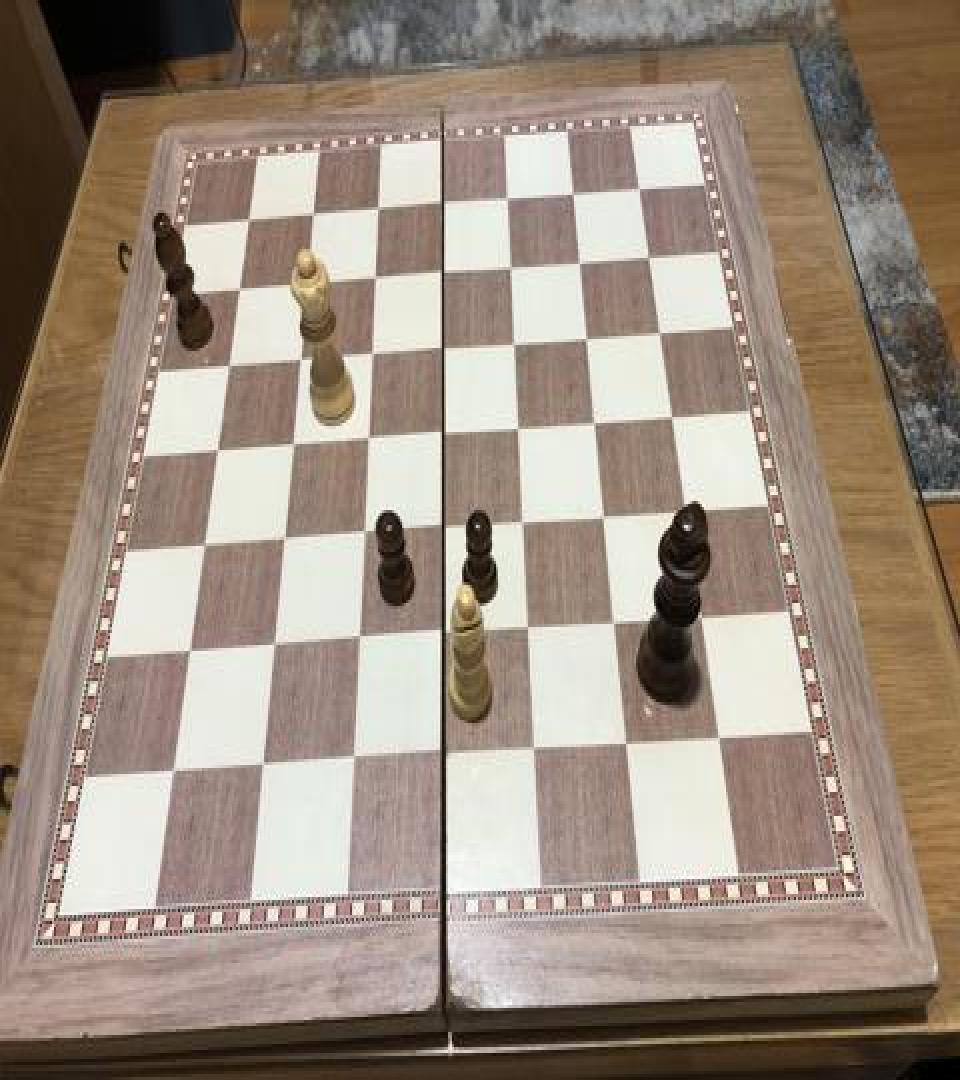xcorner: (275, 520, 299, 557), (436, 739, 460, 776), (629, 174, 653, 210), (564, 178, 588, 214), (499, 183, 523, 219), (369, 190, 393, 226), (305, 195, 329, 231), (240, 200, 264, 236), (639, 242, 663, 278), (571, 246, 595, 282), (502, 250, 526, 286), (434, 255, 458, 291), (299, 264, 323, 300), (231, 268, 255, 304), (651, 318, 675, 354), (578, 322, 602, 358), (506, 327, 530, 363), (435, 332, 459, 368), (363, 336, 387, 372), (292, 340, 316, 376), (220, 345, 244, 381), (663, 402, 687, 438), (587, 406, 611, 442), (511, 411, 535, 447), (435, 417, 459, 453), (359, 422, 383, 458), (284, 426, 308, 462), (677, 496, 701, 532), (597, 501, 621, 537), (516, 506, 540, 542), (435, 512, 459, 548), (355, 516, 379, 552), (196, 526, 220, 562), (693, 603, 717, 639), (607, 608, 631, 644), (521, 614, 545, 650), (436, 618, 460, 654), (351, 624, 375, 660), (266, 628, 290, 664), (181, 633, 205, 669), (712, 724, 736, 760), (620, 729, 644, 765), (528, 735, 552, 771), (345, 746, 369, 782), (255, 750, 279, 786), (164, 756, 188, 792), (434, 188, 458, 223), (366, 260, 390, 295), (209, 431, 233, 466)
